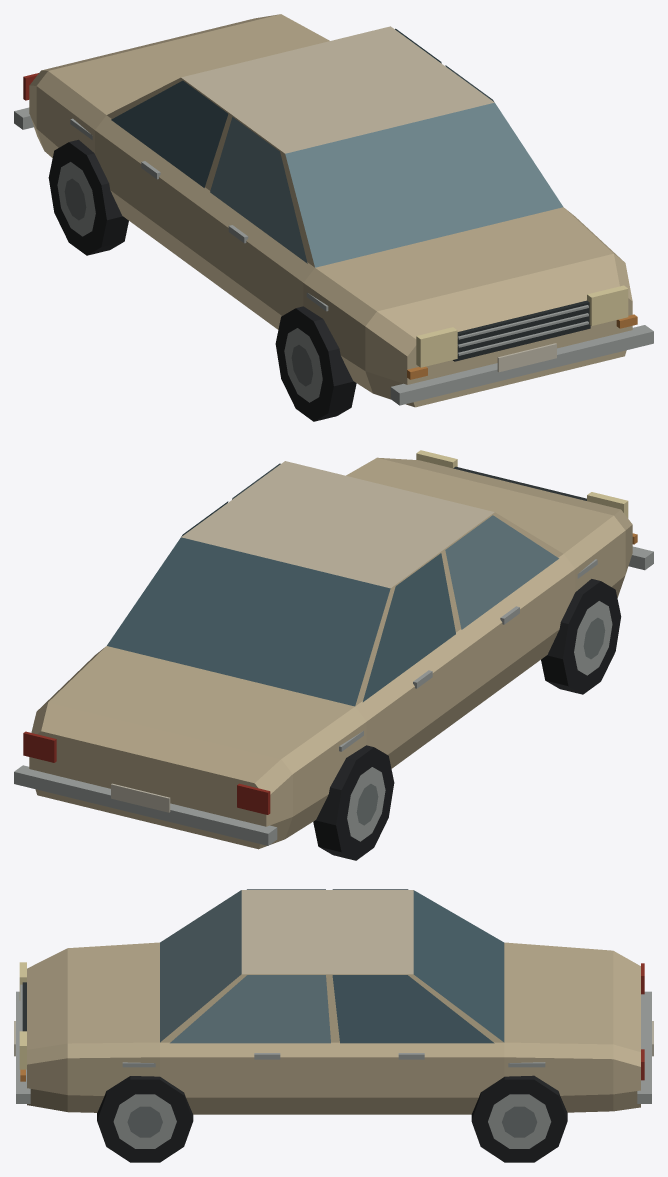
Rendered from car_0.glb.
3 renders of one model, top to bottom at view 1: azimuth 30°, elevation 25°; view 2: azimuth 150°, elevation 25°; view 3: azimuth 270°, elevation 25°, orthographic. The views are drawn at different scales.
Visible parts, largest first — view 1: Body; view 2: Body; view 3: Body.
Boxes of the visible parts, x1=… form: Body: x1=14, y1=14, x2=653, y2=421; Body: x1=14, y1=450, x2=653, y2=860; Body: x1=14, y1=889, x2=653, y2=1162.
Size of the model in its own units: 0.1504 by 0.103 by 0.346.
